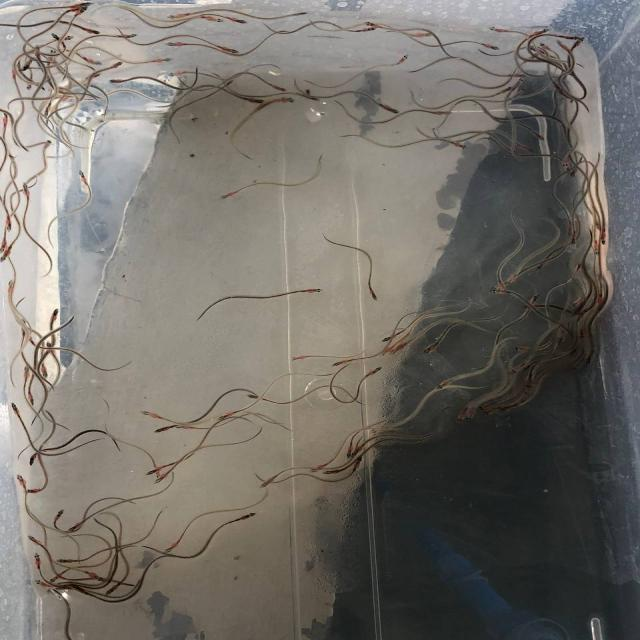glass_eel: (350, 19, 395, 33), (259, 468, 289, 489), (462, 398, 486, 423), (145, 49, 180, 66), (327, 354, 364, 370), (306, 458, 343, 474), (480, 22, 516, 38), (69, 22, 102, 39), (324, 462, 354, 480), (415, 338, 443, 357), (564, 37, 595, 54), (568, 353, 593, 374), (384, 53, 413, 71), (391, 338, 417, 358), (80, 52, 107, 71), (33, 577, 65, 593), (70, 1, 93, 23), (344, 435, 365, 459), (197, 12, 228, 28), (508, 359, 537, 376), (51, 505, 74, 526), (14, 472, 35, 495), (107, 31, 139, 46), (268, 95, 298, 111), (469, 40, 505, 53), (160, 10, 198, 22), (296, 89, 324, 105), (154, 420, 182, 436), (49, 567, 75, 584), (64, 581, 90, 598), (516, 137, 540, 155), (217, 184, 244, 200), (522, 28, 552, 42), (42, 32, 72, 46), (262, 78, 290, 93), (377, 330, 407, 344), (140, 408, 170, 422), (43, 308, 63, 329), (578, 348, 600, 367), (36, 362, 58, 381), (165, 36, 197, 49), (62, 518, 88, 534), (532, 254, 555, 272), (7, 403, 30, 421), (478, 396, 502, 413), (283, 350, 312, 364), (48, 32, 68, 52), (452, 405, 472, 425), (363, 362, 384, 381), (102, 56, 124, 74), (40, 50, 62, 68), (560, 148, 578, 170), (566, 290, 588, 308), (102, 579, 124, 597), (25, 448, 47, 466), (216, 44, 244, 58), (511, 341, 539, 355), (524, 293, 541, 316), (369, 421, 395, 436), (152, 471, 178, 486), (230, 12, 254, 28), (162, 538, 186, 554), (508, 77, 528, 96), (407, 28, 434, 42), (39, 138, 60, 156), (486, 286, 513, 300), (15, 362, 33, 383), (524, 126, 546, 143), (381, 340, 403, 357), (20, 320, 37, 342), (597, 224, 613, 247), (0, 244, 18, 264), (492, 274, 510, 294), (565, 228, 583, 248), (19, 387, 37, 407), (576, 299, 597, 316), (42, 102, 64, 118), (359, 286, 381, 302), (83, 566, 105, 582), (238, 94, 265, 107), (24, 483, 51, 496), (215, 408, 240, 422), (106, 74, 135, 86), (590, 236, 608, 255), (45, 340, 62, 360), (378, 100, 402, 114), (448, 138, 472, 152), (482, 406, 503, 422), (23, 68, 38, 90), (298, 285, 325, 297), (429, 378, 456, 390), (1, 278, 19, 296), (7, 65, 24, 84), (2, 213, 19, 232), (501, 269, 518, 288), (566, 260, 583, 279), (347, 24, 376, 35), (169, 68, 198, 79), (52, 554, 81, 565), (559, 29, 583, 42), (503, 67, 527, 80), (347, 442, 369, 456), (17, 183, 34, 201), (520, 376, 538, 393), (74, 167, 90, 186), (19, 56, 39, 71), (244, 389, 264, 404), (146, 462, 167, 476), (179, 420, 203, 432), (30, 552, 45, 571), (353, 456, 371, 471), (0, 110, 12, 132), (431, 108, 457, 118), (574, 324, 590, 340), (570, 162, 584, 180), (536, 42, 555, 55), (68, 0, 92, 10), (240, 510, 260, 522), (564, 220, 577, 238), (494, 86, 517, 96), (0, 234, 12, 252), (140, 595, 142, 597), (78, 84, 81, 84)
